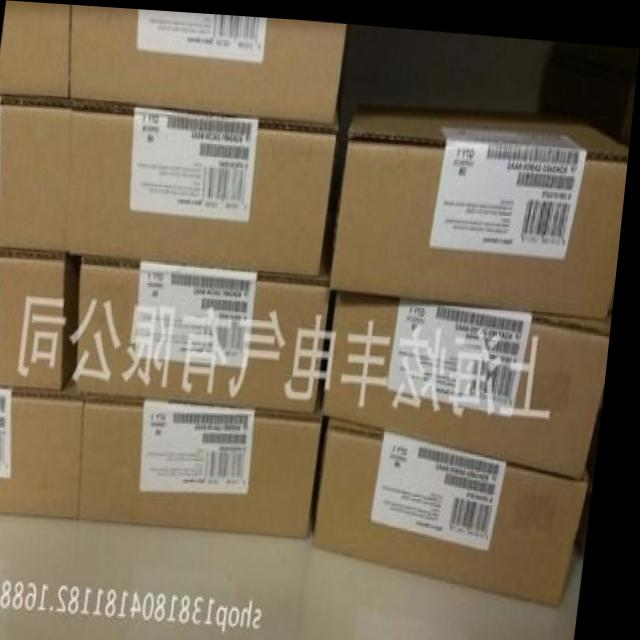box: (334, 98, 631, 309), (329, 268, 621, 466), (322, 412, 599, 596), (71, 93, 339, 270), (85, 254, 334, 403), (89, 393, 329, 534), (71, 4, 347, 117), (0, 358, 92, 519), (0, 249, 89, 391), (0, 101, 70, 250), (542, 39, 639, 140), (0, 0, 71, 104)
